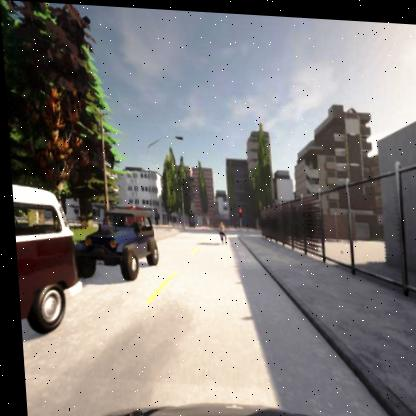bike: (214, 219, 223, 242)
vehicle: (10, 174, 83, 355), (68, 204, 159, 283)
